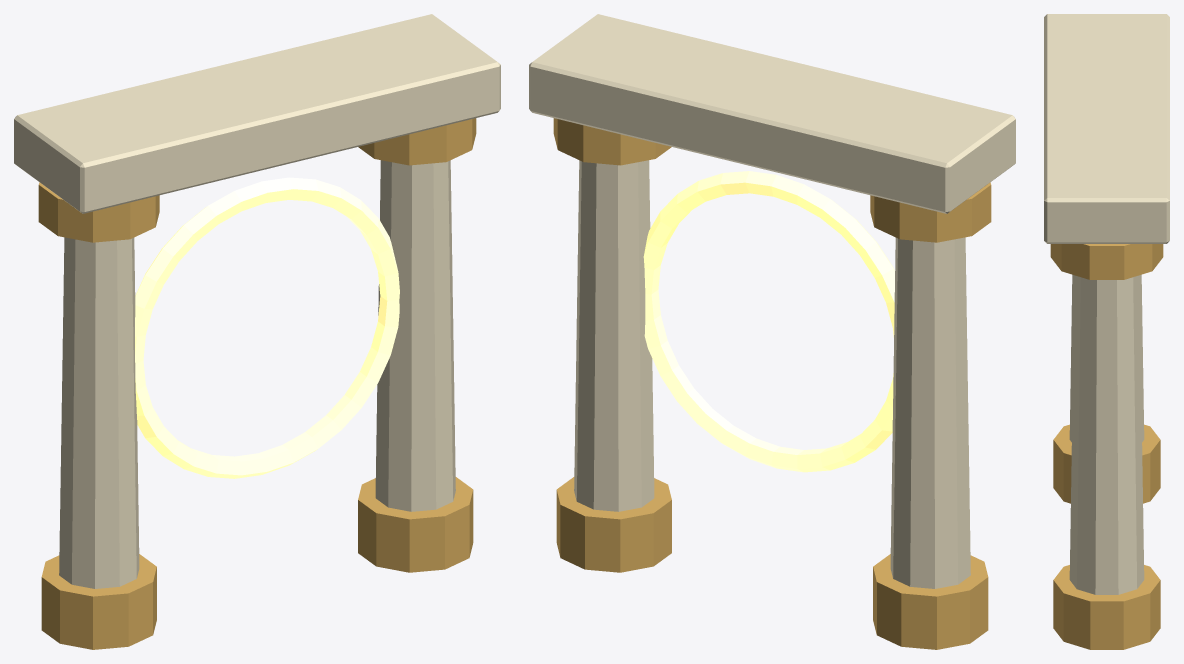
File: d5_portal_colonnade.glb
3 renders of one model, left to right at view 1: azimuth 30°, elevation 25°; view 2: azimuth 150°, elevation 25°; view 3: azimuth 270°, elevation 25°, orthographic. The views are drawn at different scales.
Parts seen in each view (by area): view 1: d5_portal_colonnade__d5-alabaster, d5_portal_colonnade__d5-gold, d5_portal_colonnade__d5-emissive-gold; view 2: d5_portal_colonnade__d5-alabaster, d5_portal_colonnade__d5-gold, d5_portal_colonnade__d5-emissive-gold; view 3: d5_portal_colonnade__d5-alabaster, d5_portal_colonnade__d5-gold.
Part boxes in pixels (left/top/right/bottom): d5_portal_colonnade__d5-alabaster: left=14, top=14, right=500, bottom=588; d5_portal_colonnade__d5-gold: left=38, top=118, right=476, bottom=649; d5_portal_colonnade__d5-emissive-gold: left=135, top=177, right=399, bottom=478; d5_portal_colonnade__d5-alabaster: left=529, top=14, right=1015, bottom=588; d5_portal_colonnade__d5-gold: left=553, top=118, right=991, bottom=649; d5_portal_colonnade__d5-emissive-gold: left=643, top=171, right=894, bottom=472; d5_portal_colonnade__d5-alabaster: left=1044, top=14, right=1169, bottom=594; d5_portal_colonnade__d5-gold: left=1050, top=244, right=1163, bottom=649.
Bounding box in the file's own units: 25.86 × 29.24 × 7.37.
